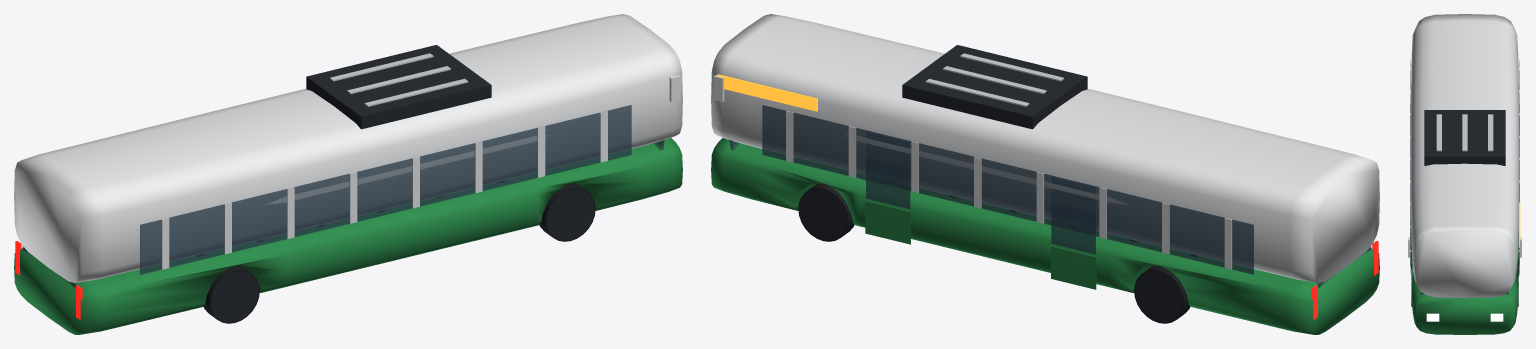
Rendered from bus.glb.
3 views of the same model, side by side, from view 1: azimuth 30°, elevation 25°; view 2: azimuth 150°, elevation 25°; view 3: azimuth 270°, elevation 25° (orthographic). The views are drawn at different scales.
Visible parts, largest first — view 1: VehicleBus; view 2: VehicleBus; view 3: VehicleBus.
Boxes of the visible parts, x1,y1,x2,y2 form: VehicleBus: [14, 14, 682, 334]; VehicleBus: [711, 14, 1379, 334]; VehicleBus: [1408, 14, 1521, 334].
Size of the model in its own units: 1.2 by 0.3205 by 0.267.
